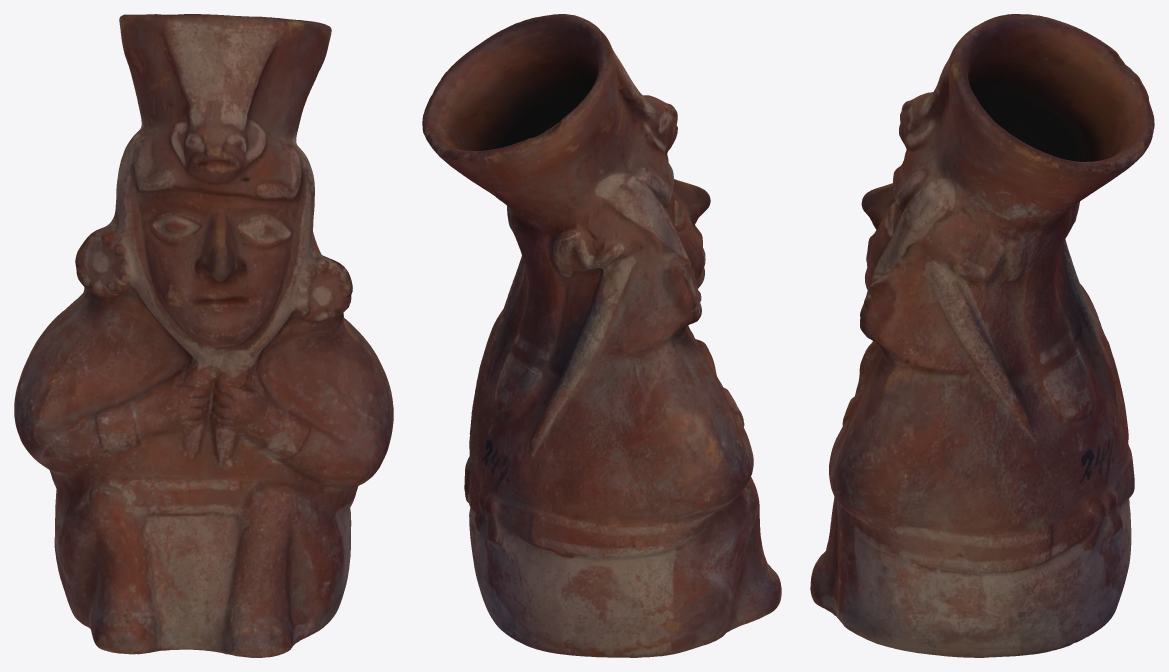
Rendered from preview.glb.
3 renders of one model, left to right at view 1: azimuth 30°, elevation 25°; view 2: azimuth 150°, elevation 25°; view 3: azimuth 270°, elevation 25°, orthographic. The views are drawn at different scales.
Parts seen in each view (by area): view 1: Object_2; view 2: Object_2; view 3: Object_2.
Boxes of the visible parts, bbox=[...] form: Object_2: bbox=[14, 14, 393, 657]; Object_2: bbox=[422, 14, 781, 657]; Object_2: bbox=[810, 14, 1154, 657].
Bounding box in the file's own units: 126 × 234 × 122.
1 material, 1 textured.
